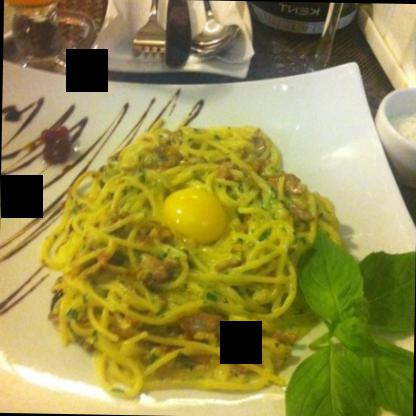pasta: (50, 120, 329, 414)
